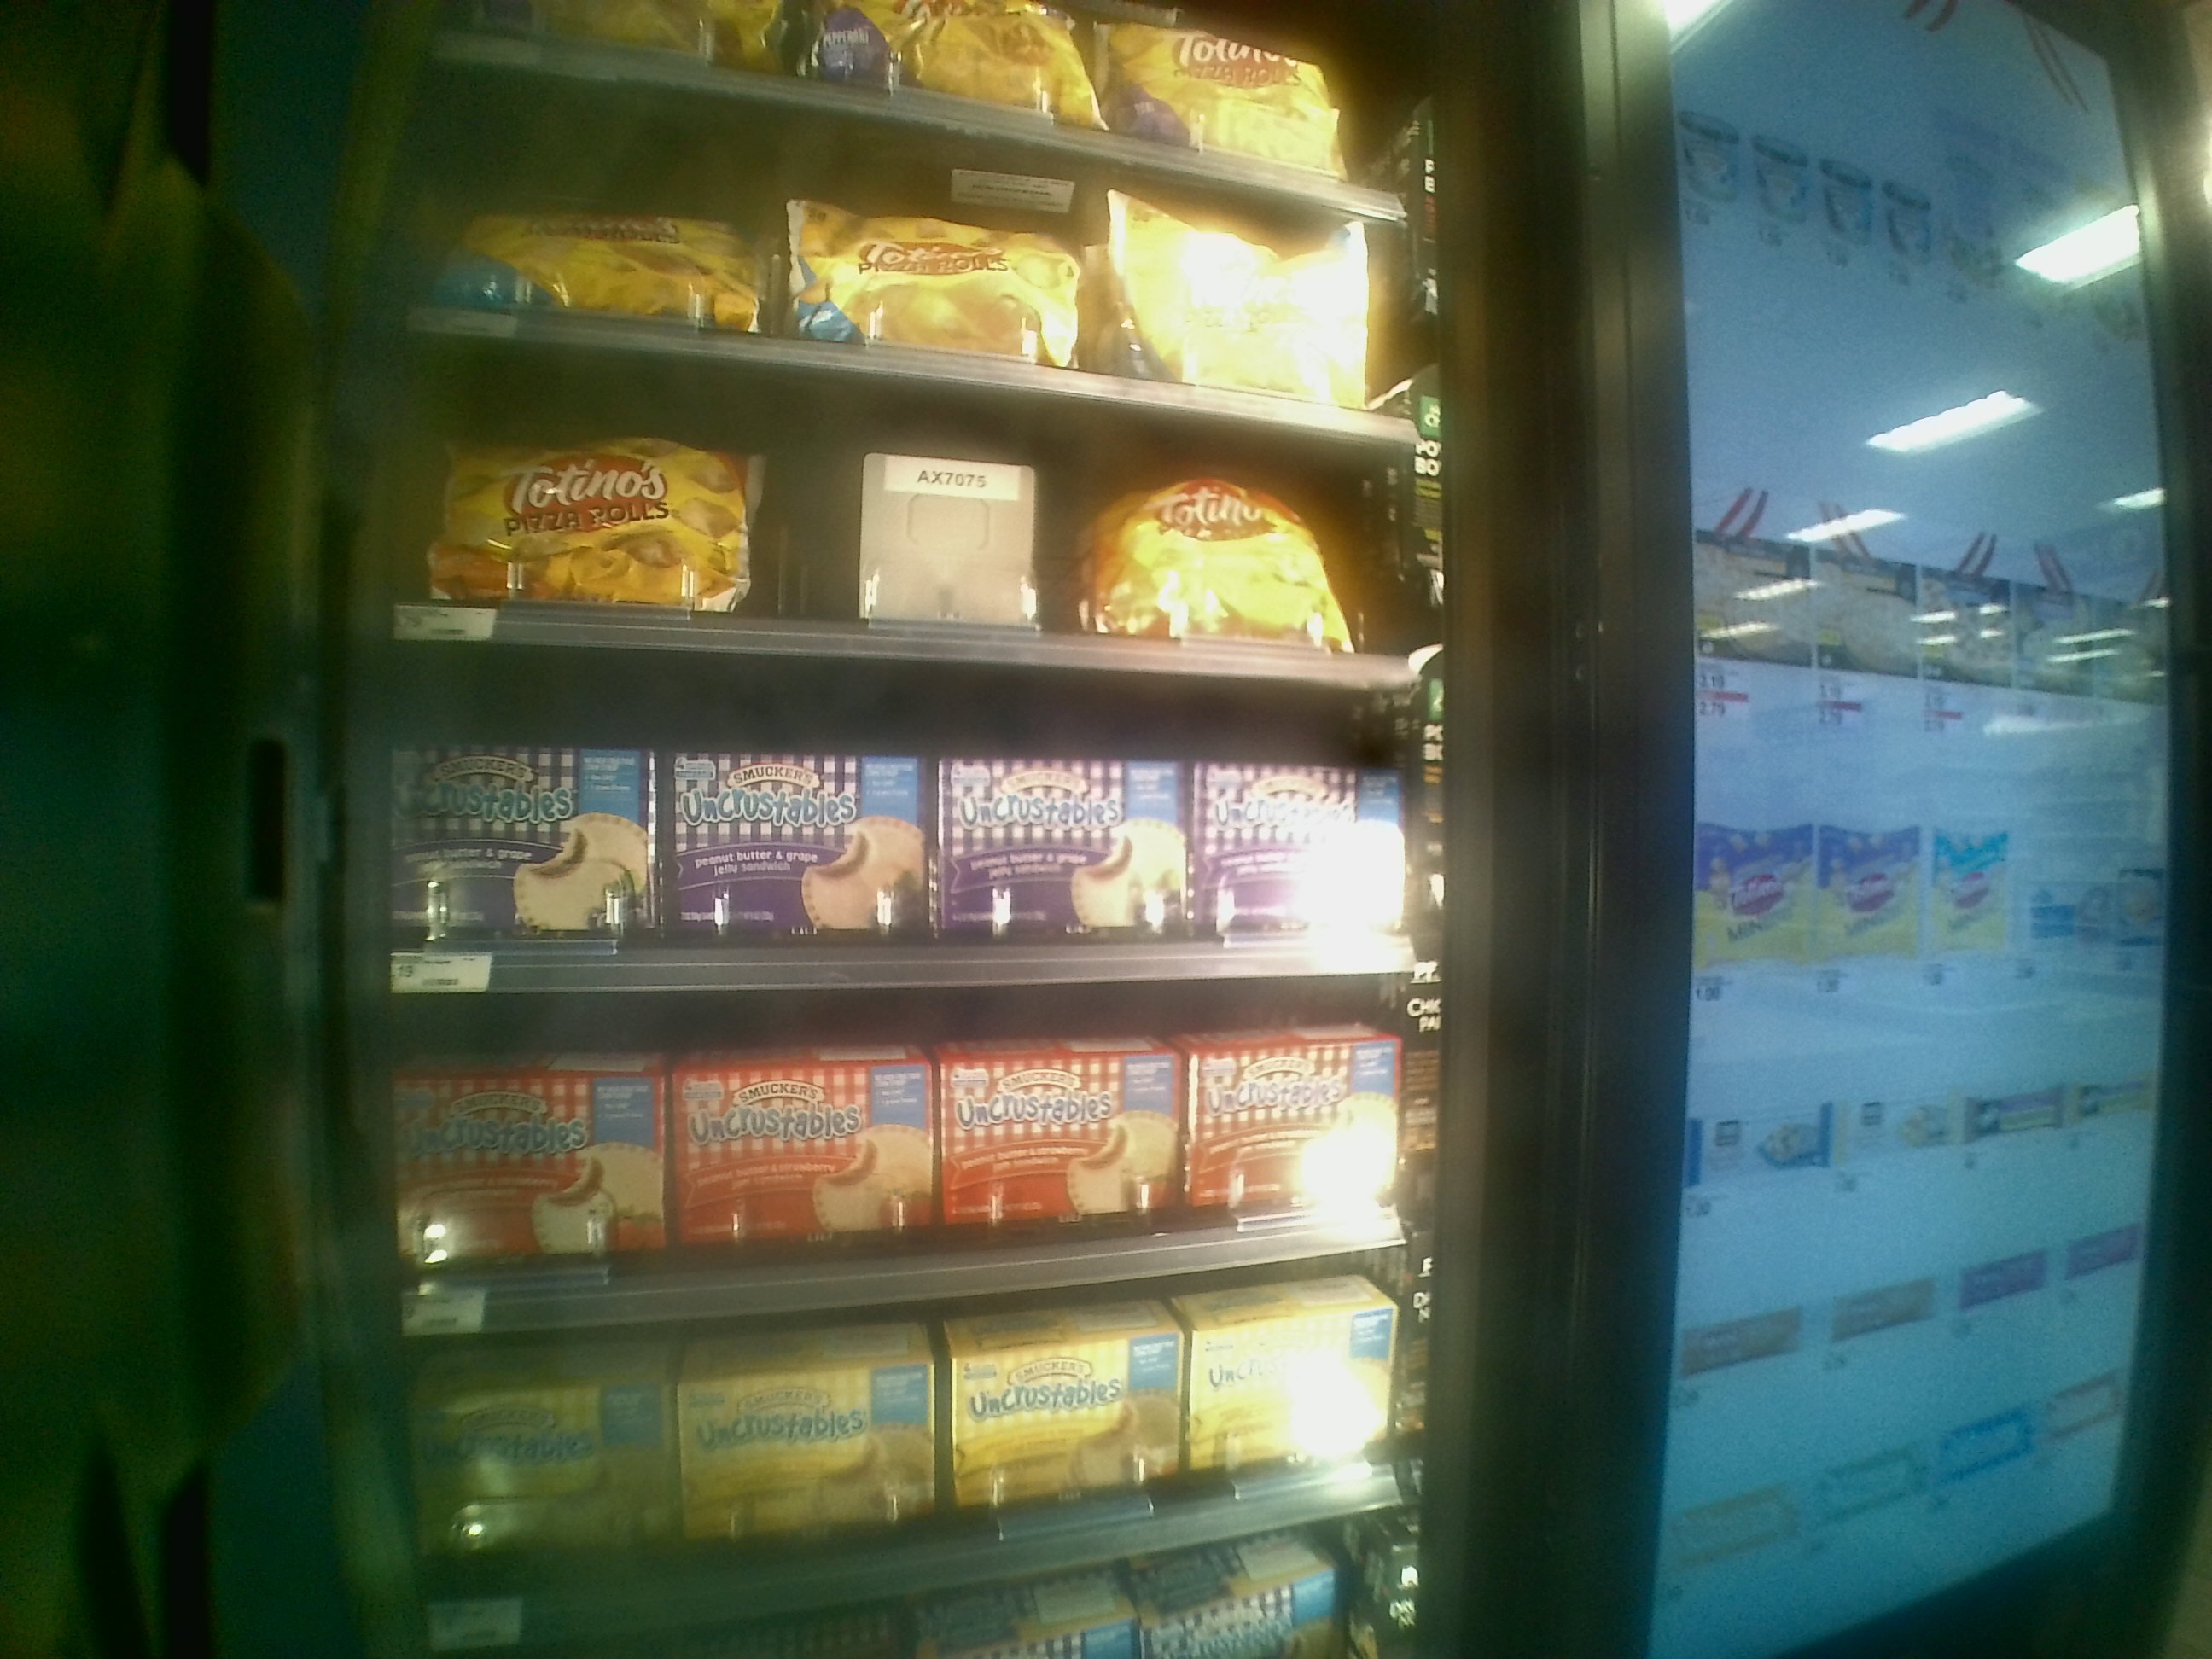shelf: (324, 633, 1433, 969), (341, 326, 1437, 662), (366, 969, 1423, 1270), (376, 1288, 1406, 1528)
